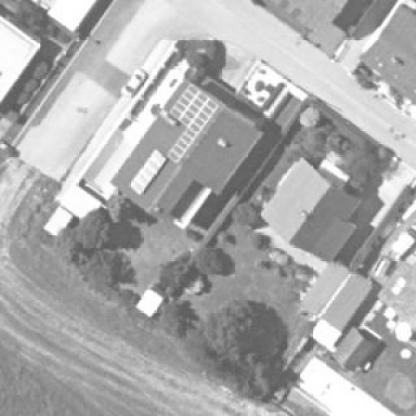solar-pv-panel: (166, 83, 219, 164), (129, 150, 166, 196)
